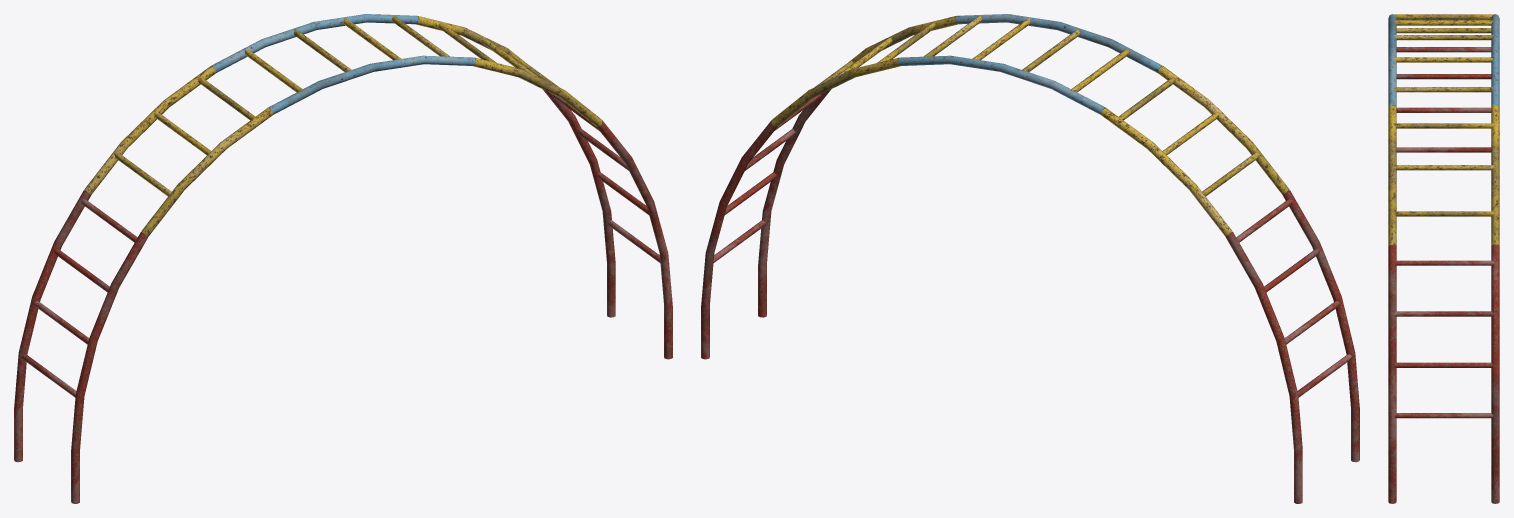
Rendered from playground_arch_ladder_lod1_web.glb.
3 renders of one model, left to right at view 1: azimuth 30°, elevation 25°; view 2: azimuth 150°, elevation 25°; view 3: azimuth 270°, elevation 25°, orthographic. The views are drawn at different scales.
Visible parts, largest first — view 1: ArchLadder_Mesh; view 2: ArchLadder_Mesh; view 3: ArchLadder_Mesh.
Part boxes in pixels (bbox=[...]): ArchLadder_Mesh: bbox=[14, 14, 672, 503]; ArchLadder_Mesh: bbox=[701, 14, 1359, 503]; ArchLadder_Mesh: bbox=[1388, 14, 1499, 503].
Size of the model in its own units: 3.65 by 2.12 by 0.648.
Materials: 3 (3 with a texture image).
